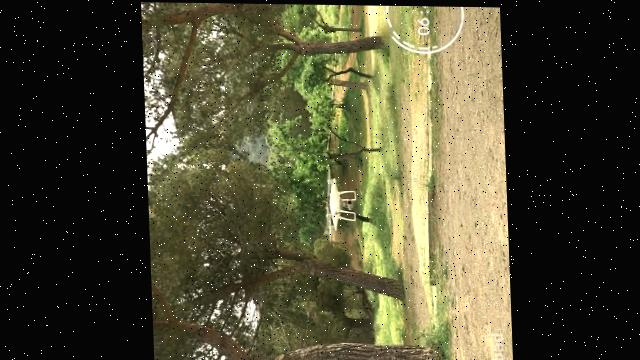drone: (318, 165, 356, 247)
